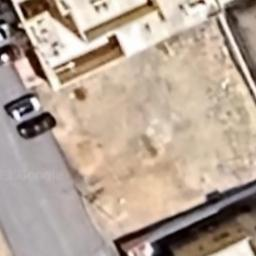sedan: (18, 112, 54, 140), (9, 95, 41, 120)
